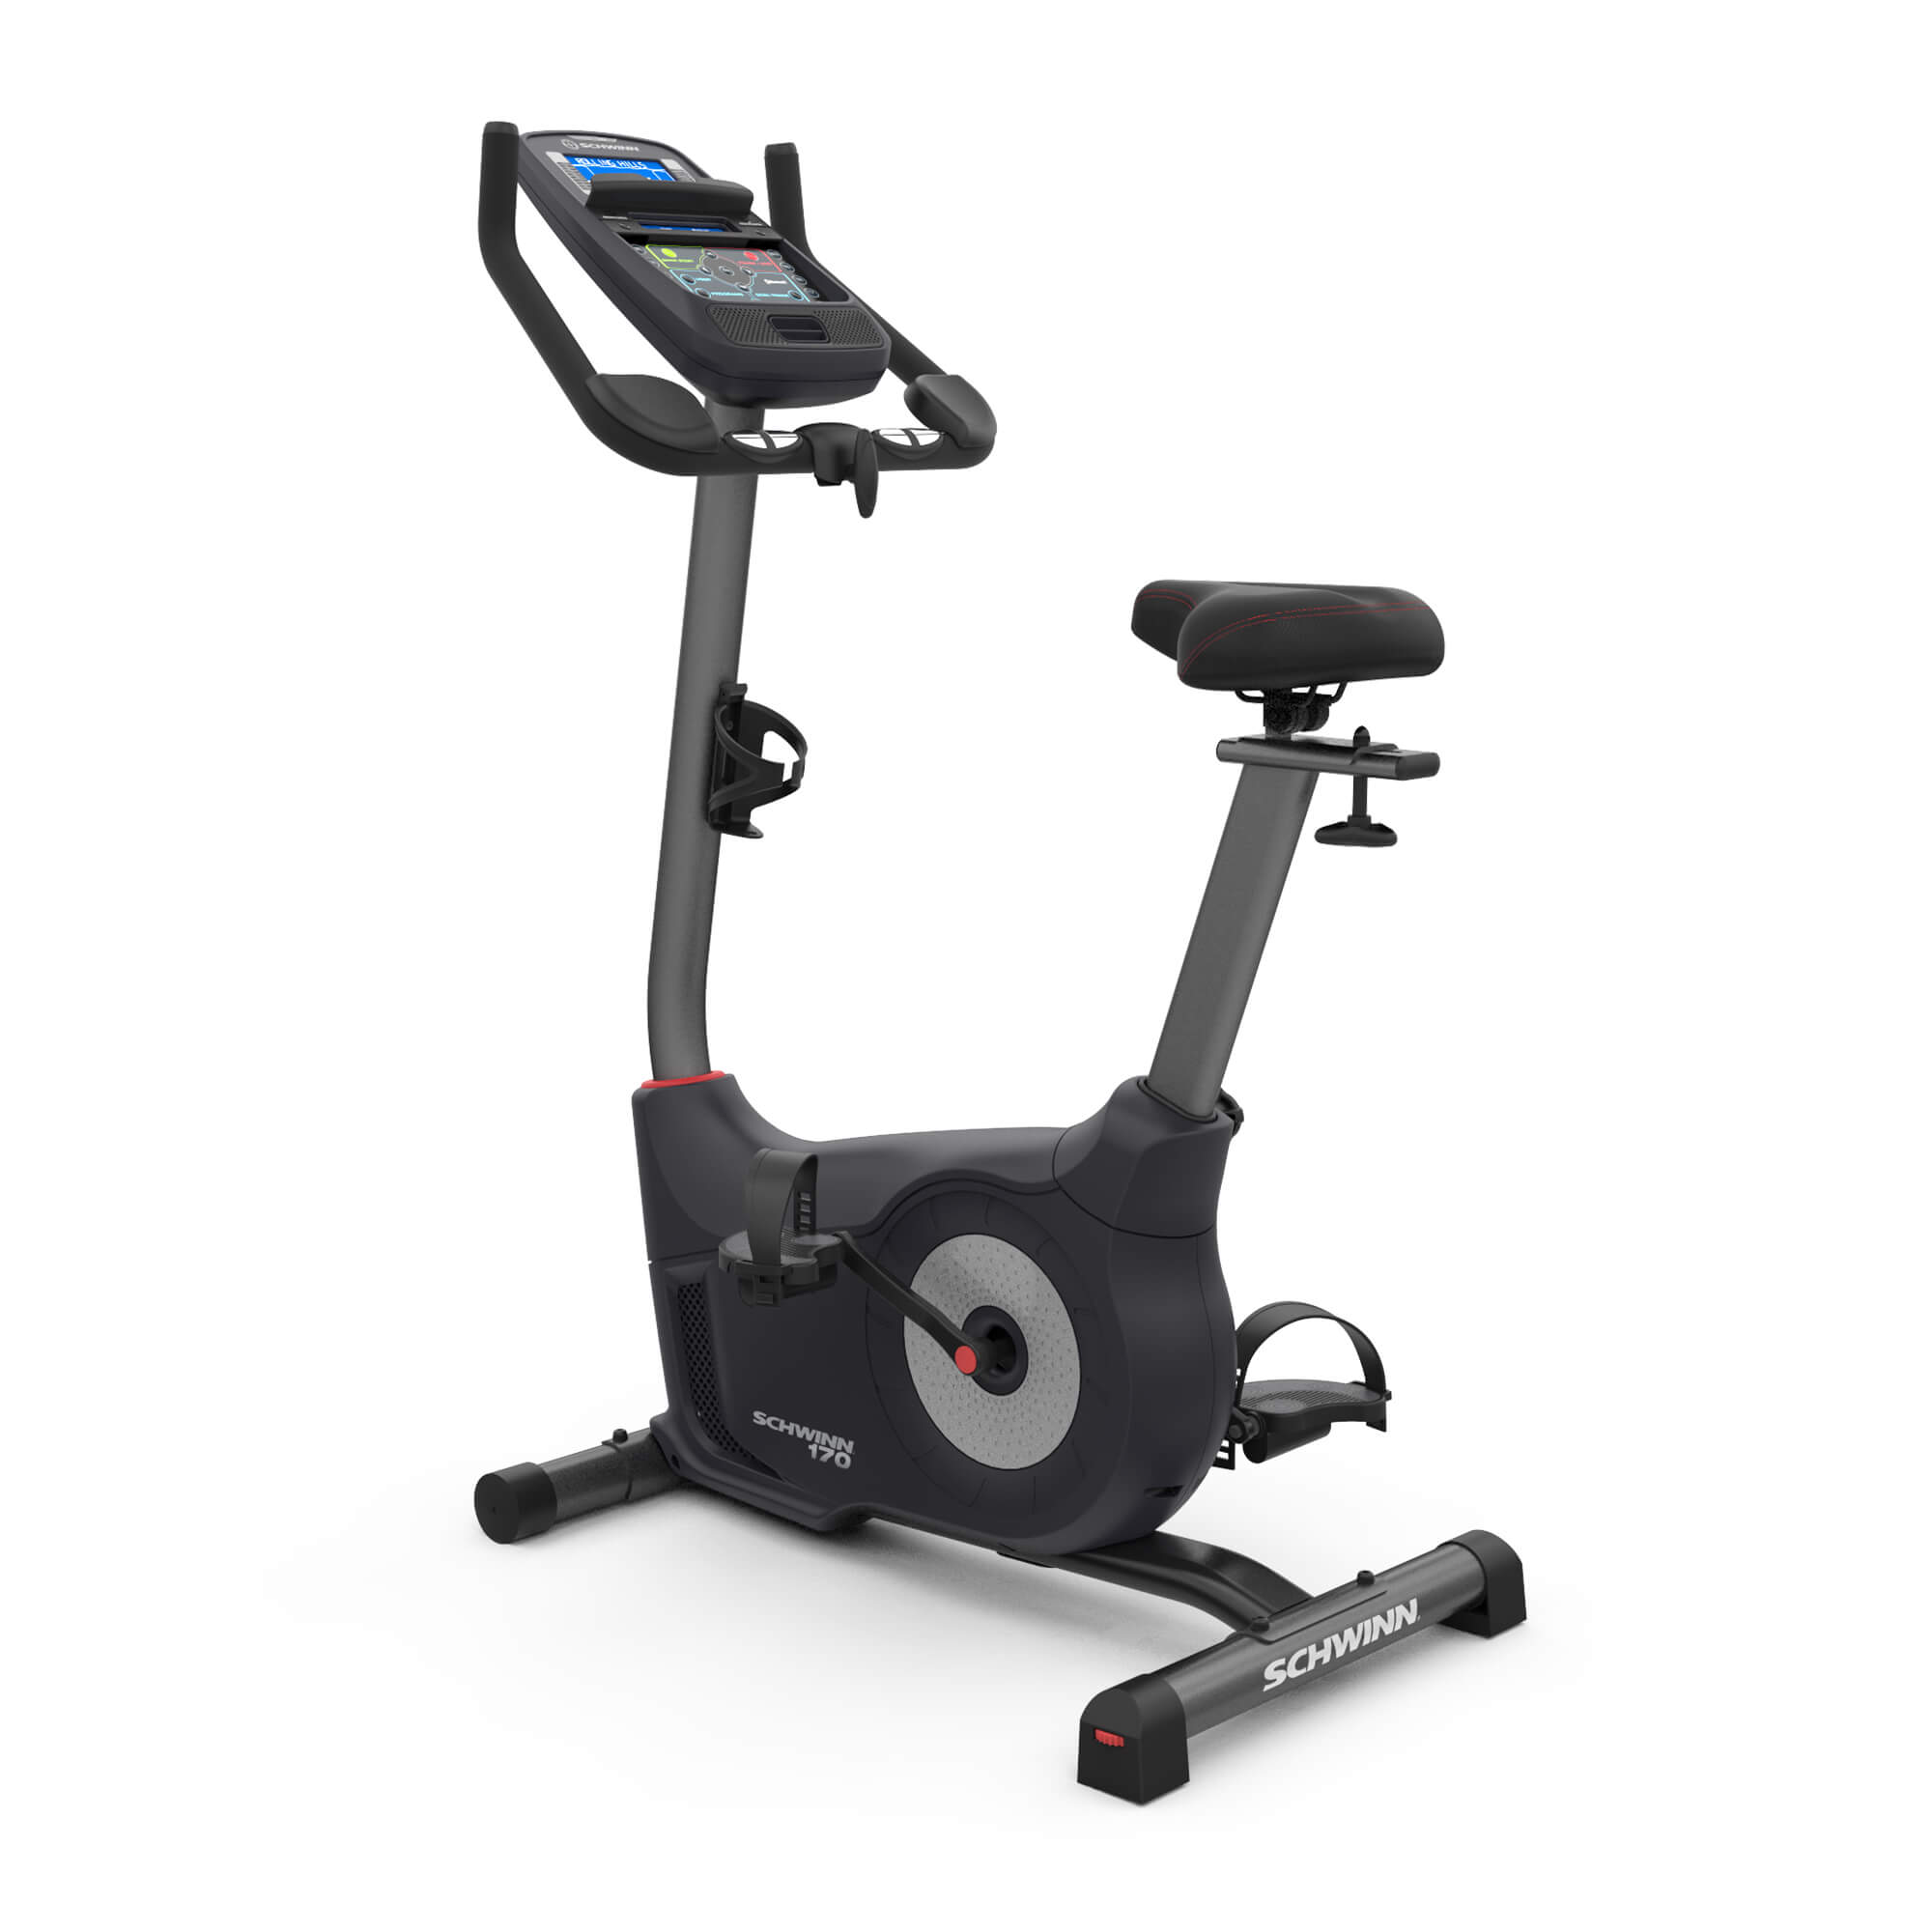gym_bike: (414, 97, 1587, 1845)
